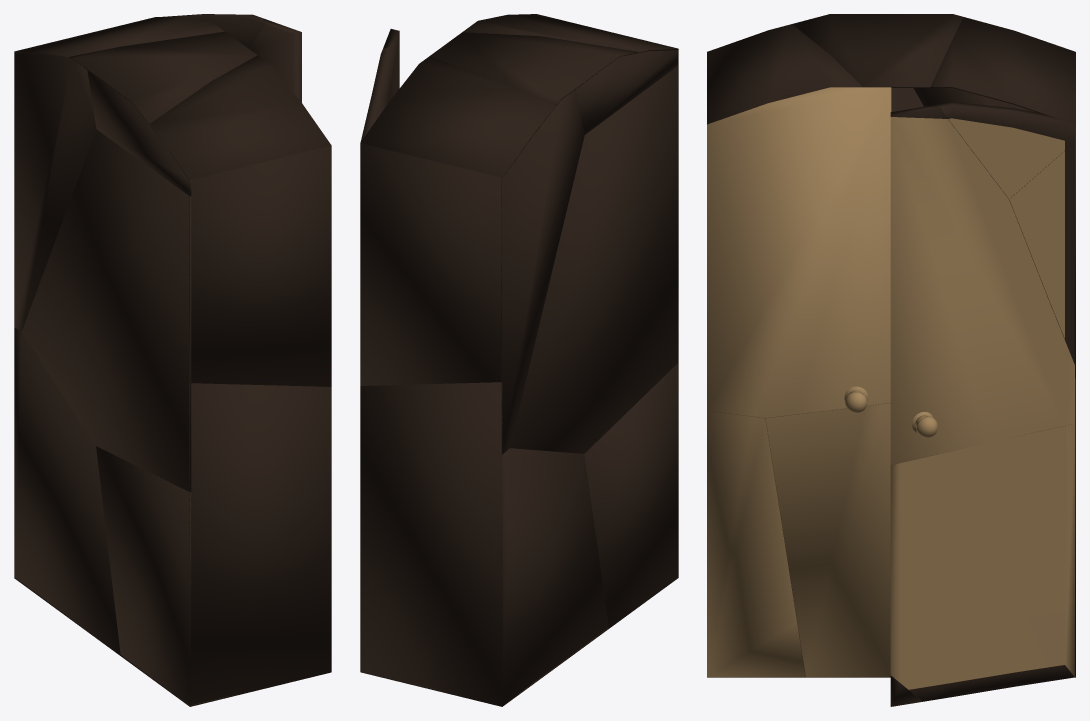
Rendered from Broken_Wardrobe.fbx.
The picture shows the model from 3 angles, left to right: view 1: azimuth 30°, elevation 25°; view 2: azimuth 150°, elevation 25°; view 3: azimuth 270°, elevation 25°; orthographic projection. The views are drawn at different scales.
Parts seen in each view (by area): view 1: Cube_cell.008, Cube.006_cell.003, Cube_cell.009, Cube.006_cell.004, Cube.006_cell, Cube.006_cell.002, Cube.004_cell.002, Cube.004_cell.001, Cube.006_cell.001, Cube.004_cell, Cube.002_cell.010, Cube.002_cell.009; view 2: Cube_cell.006, Cube.006_cell.003, Cube_cell.010, Cube.006_cell.004, Cube.006_cell, Cube.006_cell.002, Cube.004_cell, Cube.004_cell.001, Cube.006_cell.001, Cube.004_cell.002, Cube.002_cell.009, Cube.002_cell.010; view 3: Cube.001_cell.006, Cube.002_cell.010, Cube.002_cell.008, Cube.001_cell.008, Cube.001_cell.007, Cube.004_cell, Cube.004_cell.001, Cube.004_cell.002, Cube.002_cell.011, Cube.002_cell.009, Cube.006_cell.002, Cube.006_cell.003.
Part boxes in pixels (x1,y1,x2,y2): Cube_cell.008: (189,383,331,705); Cube.006_cell.003: (22,129,191,492); Cube_cell.009: (189,145,331,386); Cube.006_cell.004: (14,327,120,655); Cube.006_cell: (96,446,191,704); Cube.006_cell.002: (14,51,96,331); Cube.004_cell.002: (149,55,331,180); Cube.004_cell.001: (68,31,257,124); Cube.006_cell.001: (87,69,191,196); Cube.004_cell: (14,17,224,58); Cube.002_cell.010: (248,18,301,102); Cube.002_cell.009: (161,14,264,47); Cube_cell.006: (360,382,502,706); Cube.006_cell.003: (510,66,678,453); Cube_cell.010: (360,143,502,385); Cube.006_cell.004: (501,448,608,706); Cube.006_cell: (584,363,678,628); Cube.006_cell.002: (501,89,584,454); Cube.004_cell: (360,56,555,177); Cube.004_cell.001: (430,32,637,105); Cube.006_cell.001: (575,49,677,134); Cube.004_cell.002: (462,14,678,53); Cube.002_cell.009: (360,46,393,141); Cube.002_cell.010: (383,29,399,101); Cube.001_cell.006: (707,87,891,418); Cube.002_cell.010: (890,106,1074,464); Cube.002_cell.008: (890,423,1074,701); Cube.001_cell.008: (765,403,890,677); Cube.001_cell.007: (707,410,805,677); Cube.004_cell: (930,17,1075,125); Cube.004_cell.001: (792,14,963,87); Cube.004_cell.002: (707,24,862,124); Cube.002_cell.011: (1009,142,1074,364); Cube.002_cell.009: (927,102,1074,198); Cube.006_cell.002: (913,88,1036,112); Cube.006_cell.003: (891,88,923,111).
Size of the model in its own units: 292 by 760 by 430.
